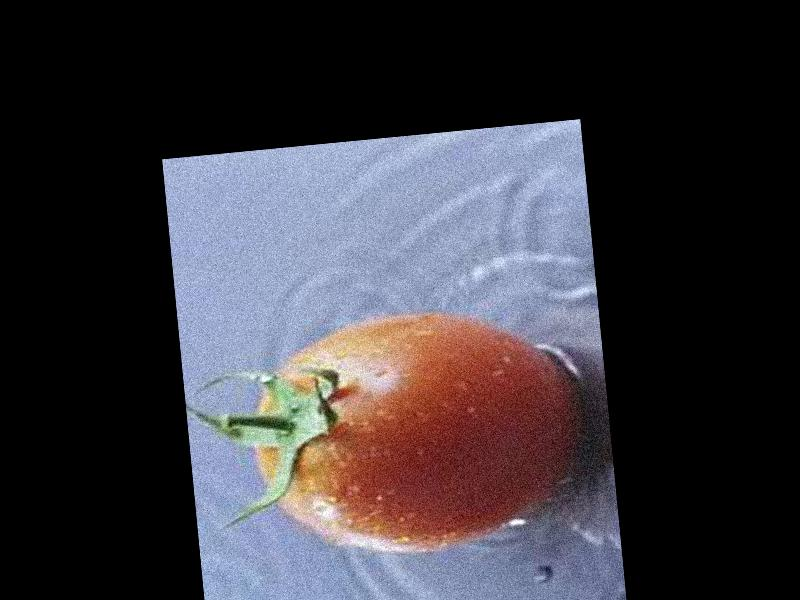Tomato: (246, 300, 591, 563)
